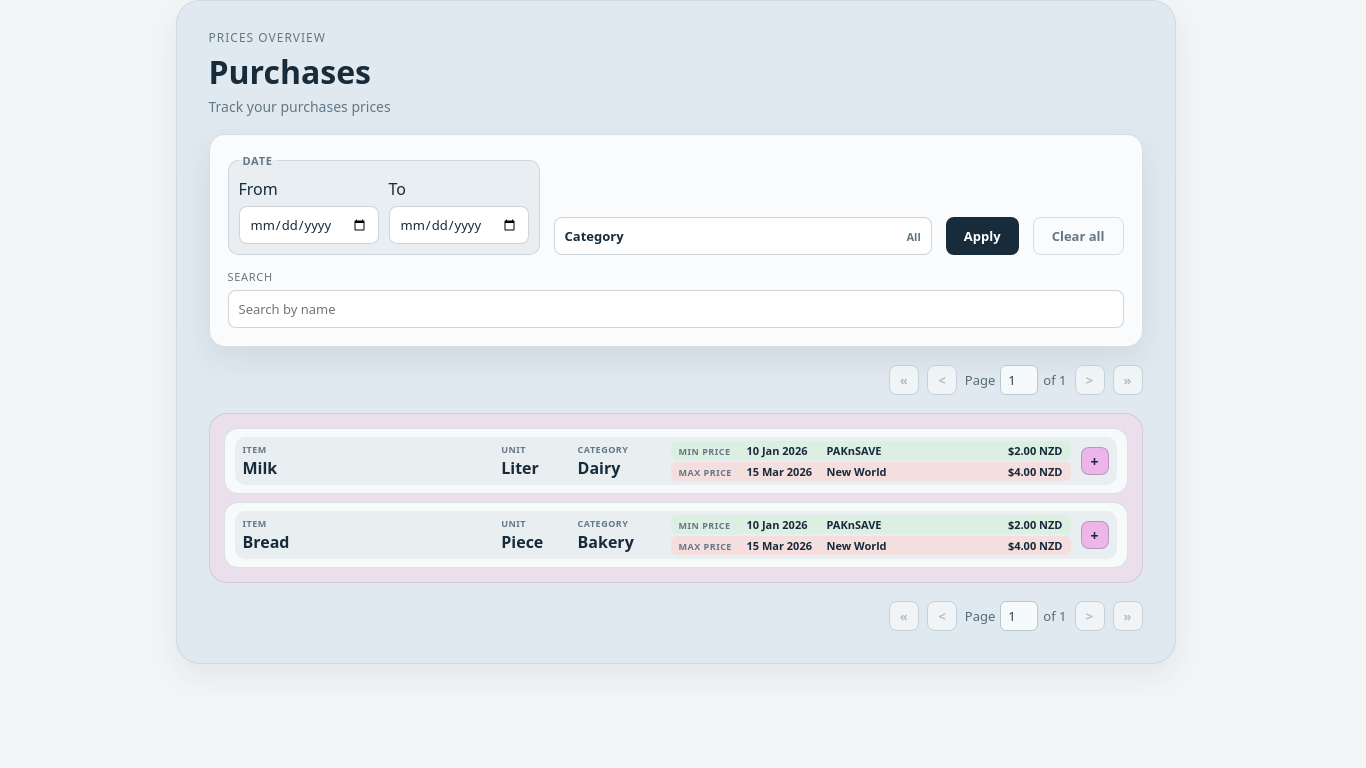
Test: Purchases › does not apply a period where 'To' is not after 'From'
Expected: the text "Milk" is shown, [242,457,277,479]
Type "2026-02-01" into the date field labelled "From" at {"x": 308, "y": 225}, box [238,206,378,244]
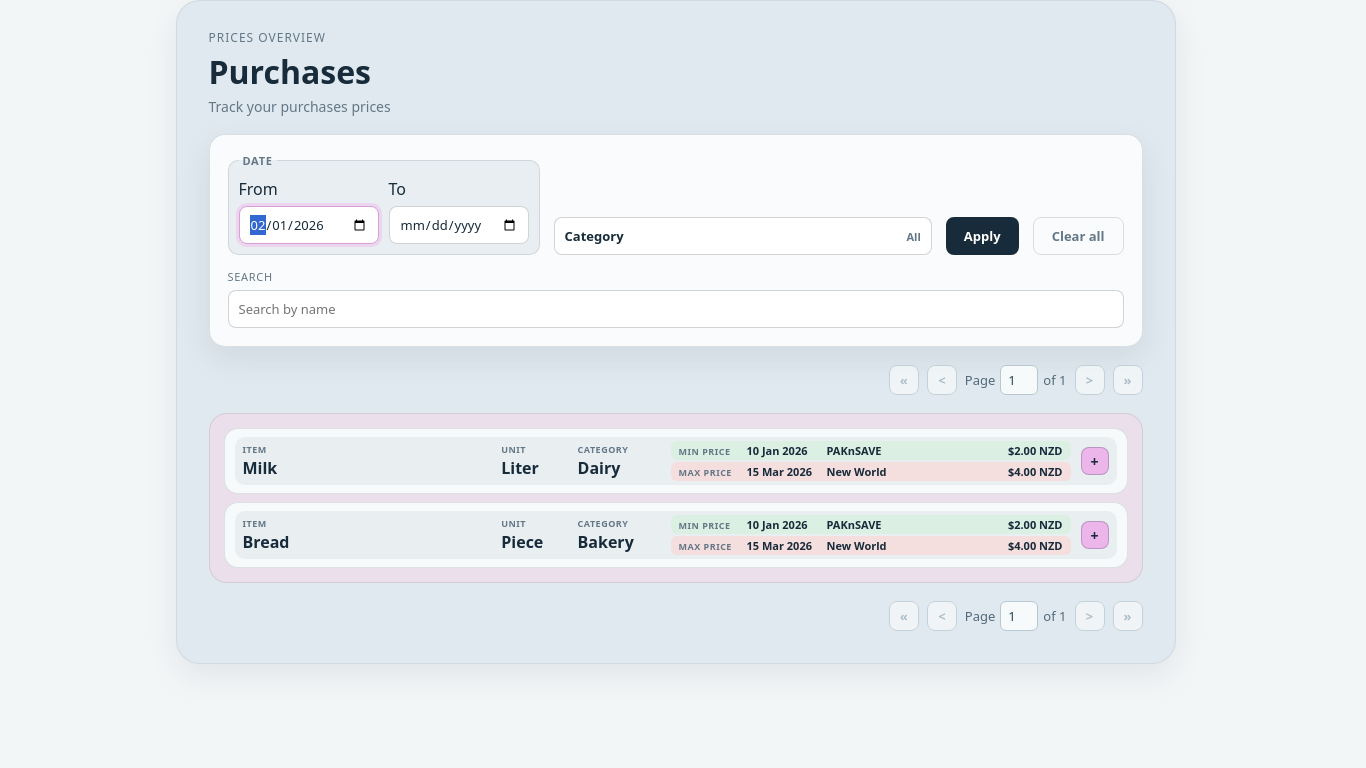
Type "2026-01-01" into the date field labelled "To" at {"x": 458, "y": 225}, box [388,206,528,244]
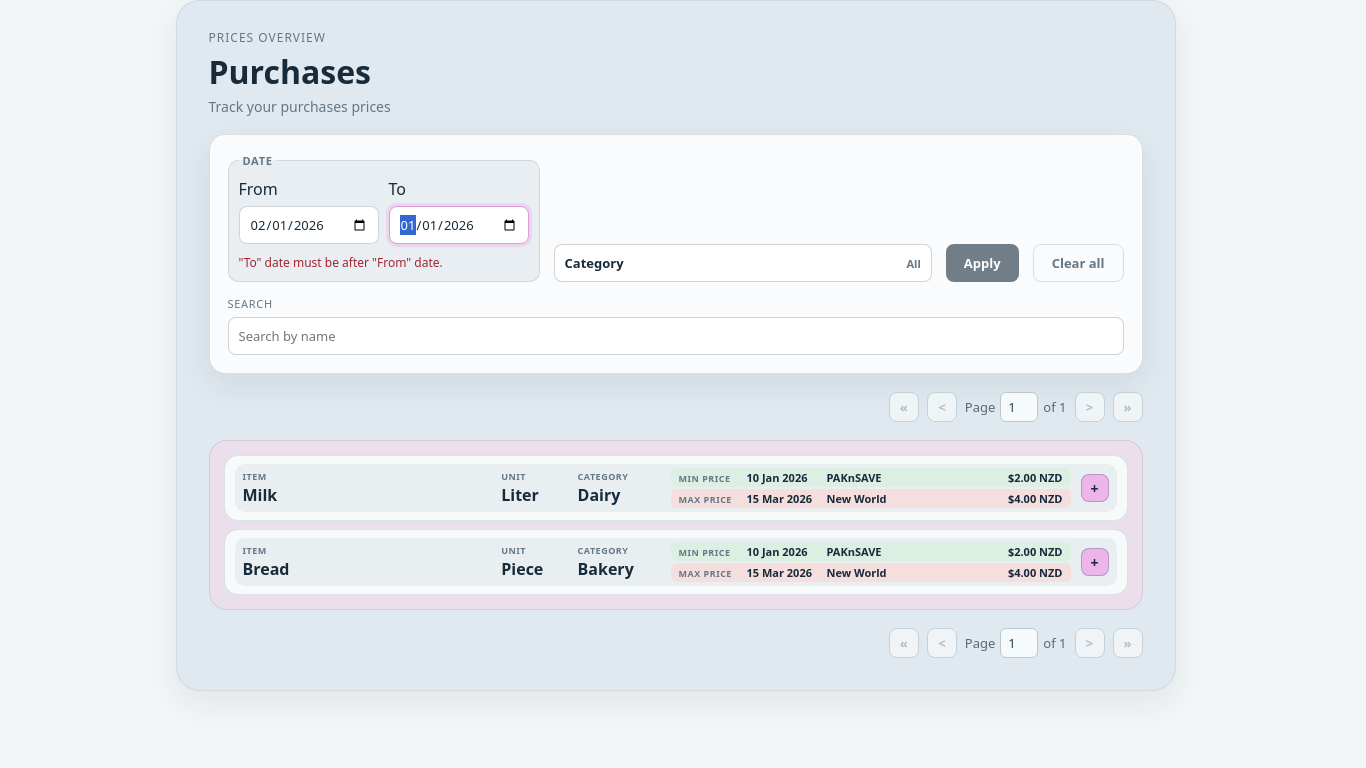
Now the message "\"To\" date must be after \"From\" date." is shown, box [238,254,443,271]
Now the button "Apply" is disabled, box [946,244,1019,282]
